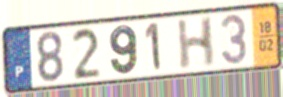1: (143, 21, 162, 73)
2: (70, 27, 102, 83)
3: (218, 12, 249, 68)
8: (34, 30, 66, 85)
9: (107, 22, 140, 77)
H: (176, 14, 216, 72)
